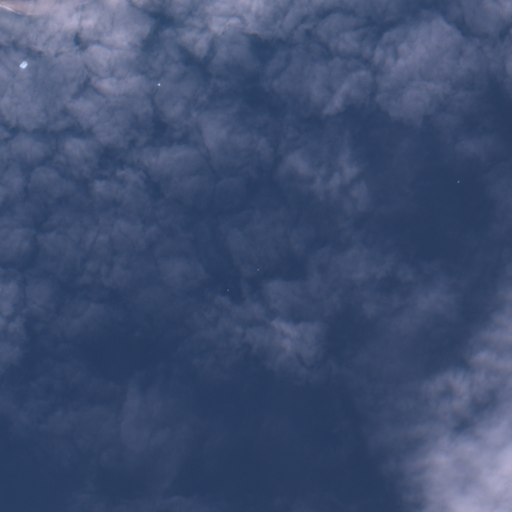Iceberg: (19, 61, 27, 68), (157, 83, 160, 85), (457, 180, 459, 182), (257, 268, 258, 270), (227, 289, 228, 290)
